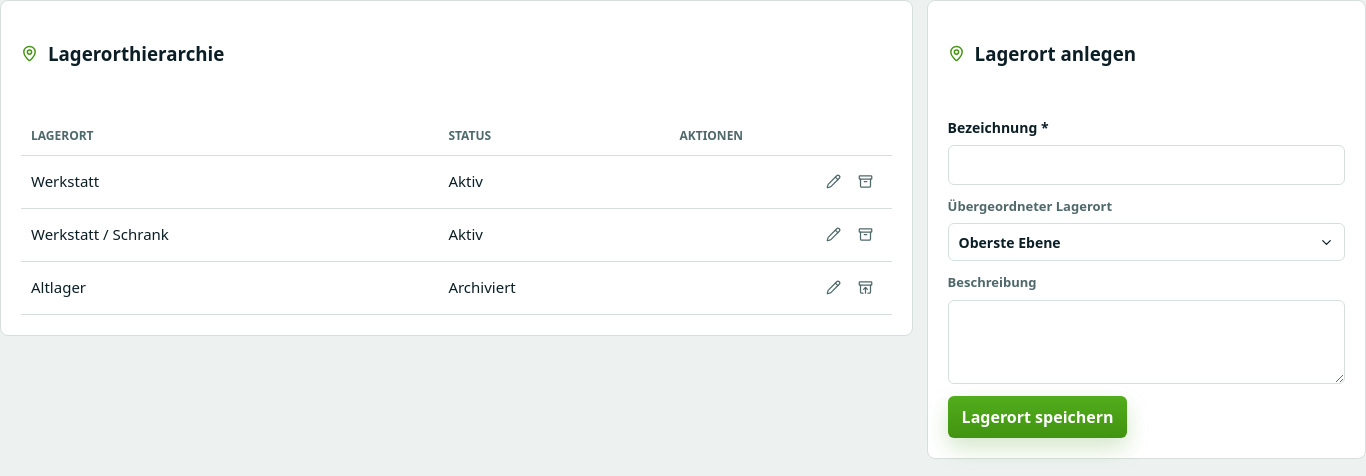
Test case: StorageLocationsSettings › closes an open location editor after archiving that location
Click the button named "Werkstatt bearbeiten" at point(834, 182), box [818,166,850,198]
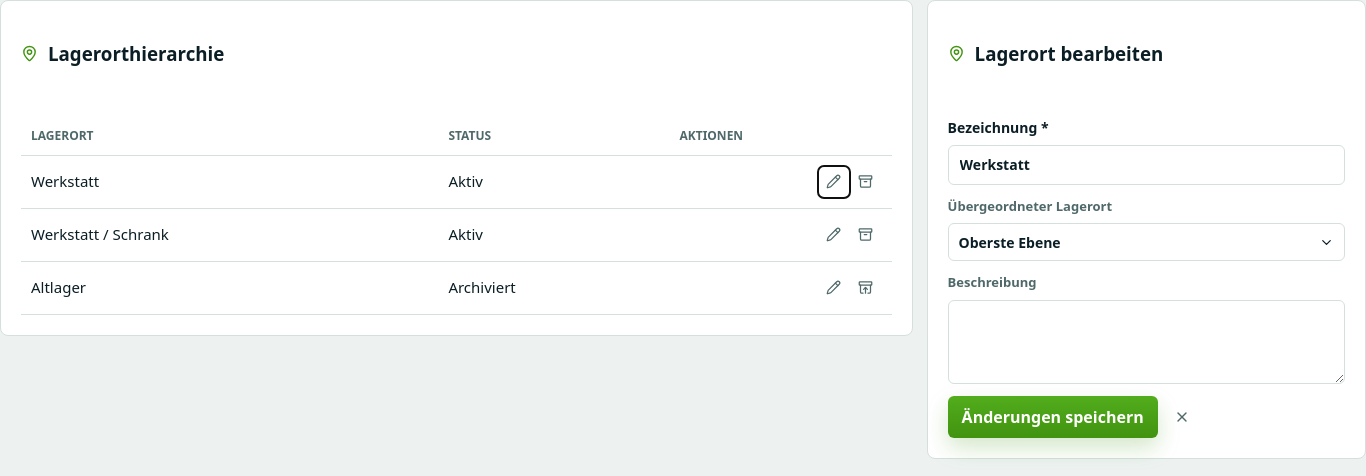
Expected: the heading "Lagerort bearbeiten" is shown, [975,40,1163,68]
Click the button named "Werkstatt archivieren" at point(866, 182), box [850,166,882,198]
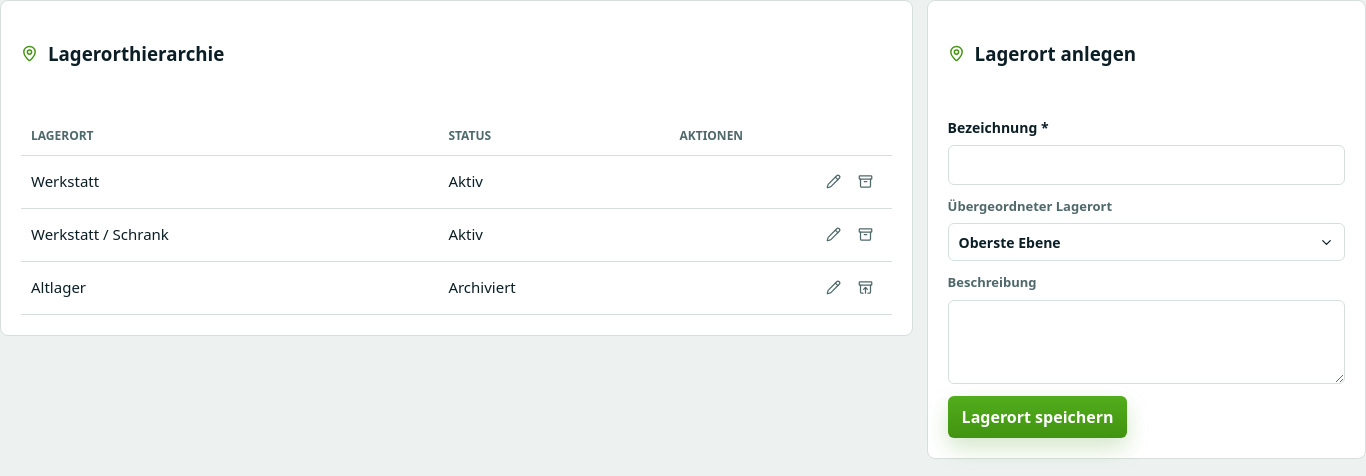
Expected: the heading "Lagerort bearbeiten" is gone
Expected: the heading "Lagerort anlegen" is shown, [975,40,1136,68]
